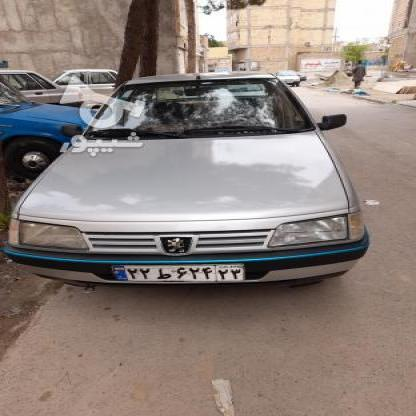licence: (109, 261, 243, 284)
